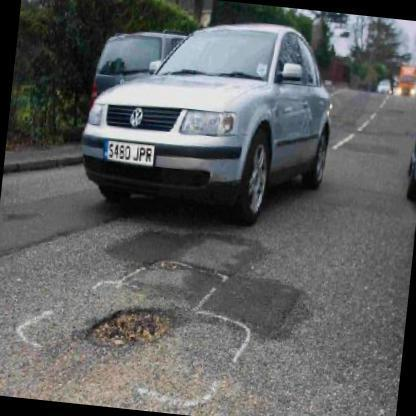pothole: (84, 305, 178, 350)
